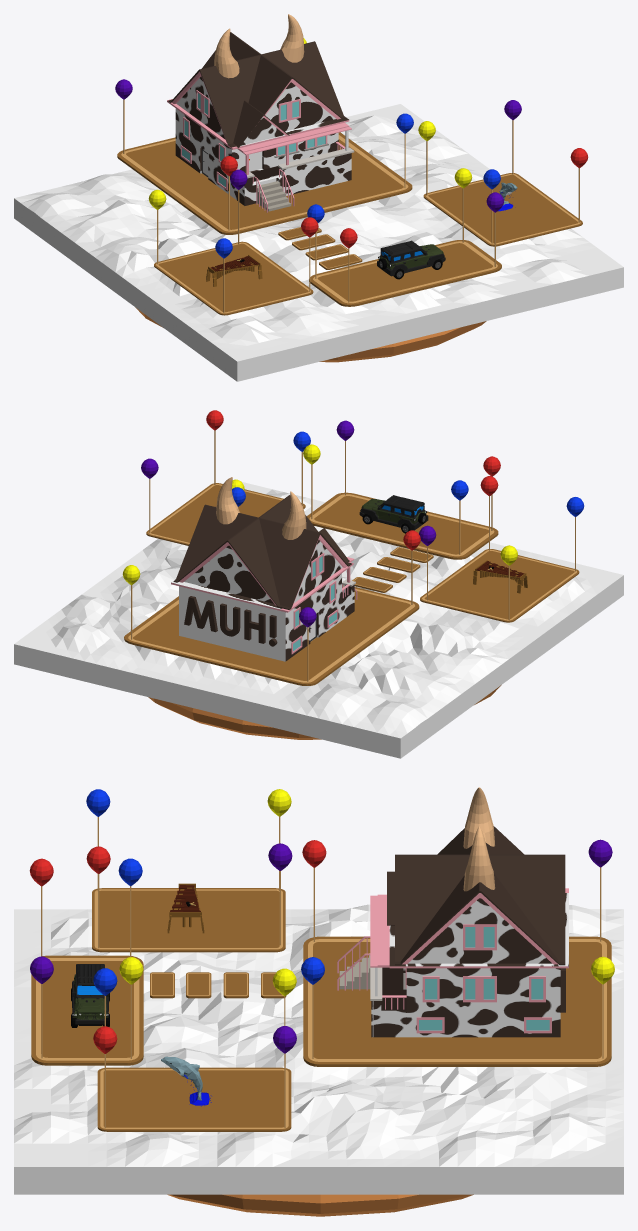
3 views of the same model, one above another, from view 1: azimuth 30°, elevation 25°; view 2: azimuth 150°, elevation 25°; view 3: azimuth 270°, elevation 25° (orthographic). The views are drawn at different scales.
Visible parts, largest first — view 1: Cube.013, Cube.1242, VEHICLES_JEEP, UNDERGROUND_PIZZA, OBJRANDOM_MARIMBA; view 2: Cube.013, Cube.1242, UNDERGROUND_PIZZA, VEHICLES_JEEP, OBJRANDOM_MARIMBA; view 3: Cube.013, Cube.1242, UNDERGROUND_PIZZA, VEHICLES_JEEP, OBJRANDOM_MARIMBA, ANIMAL_DELFIN.
Boxes of the visible parts, box(x1,y1,x2,y2) form: Cube.013: box(14, 38, 623, 381); Cube.1242: box(167, 14, 354, 212); VEHICLES_JEEP: box(377, 240, 445, 279); UNDERGROUND_PIZZA: box(135, 307, 486, 362); OBJRANDOM_MARIMBA: box(206, 254, 262, 286); Cube.013: box(14, 410, 623, 758); Cube.1242: box(171, 477, 357, 661); UNDERGROUND_PIZZA: box(148, 685, 501, 739); VEHICLES_JEEP: box(359, 495, 428, 533); OBJRANDOM_MARIMBA: box(473, 560, 527, 593); Cube.013: box(14, 789, 623, 1194); Cube.1242: box(337, 787, 568, 1037); UNDERGROUND_PIZZA: box(167, 1194, 473, 1216); VEHICLES_JEEP: box(71, 964, 109, 1027); OBJRANDOM_MARIMBA: box(167, 883, 204, 933); ANIMAL_DELFIN: box(161, 1056, 211, 1106).
Bounding box in the file's own units: 4000 × 2159 × 4000.
42 materials, 1 textured.
